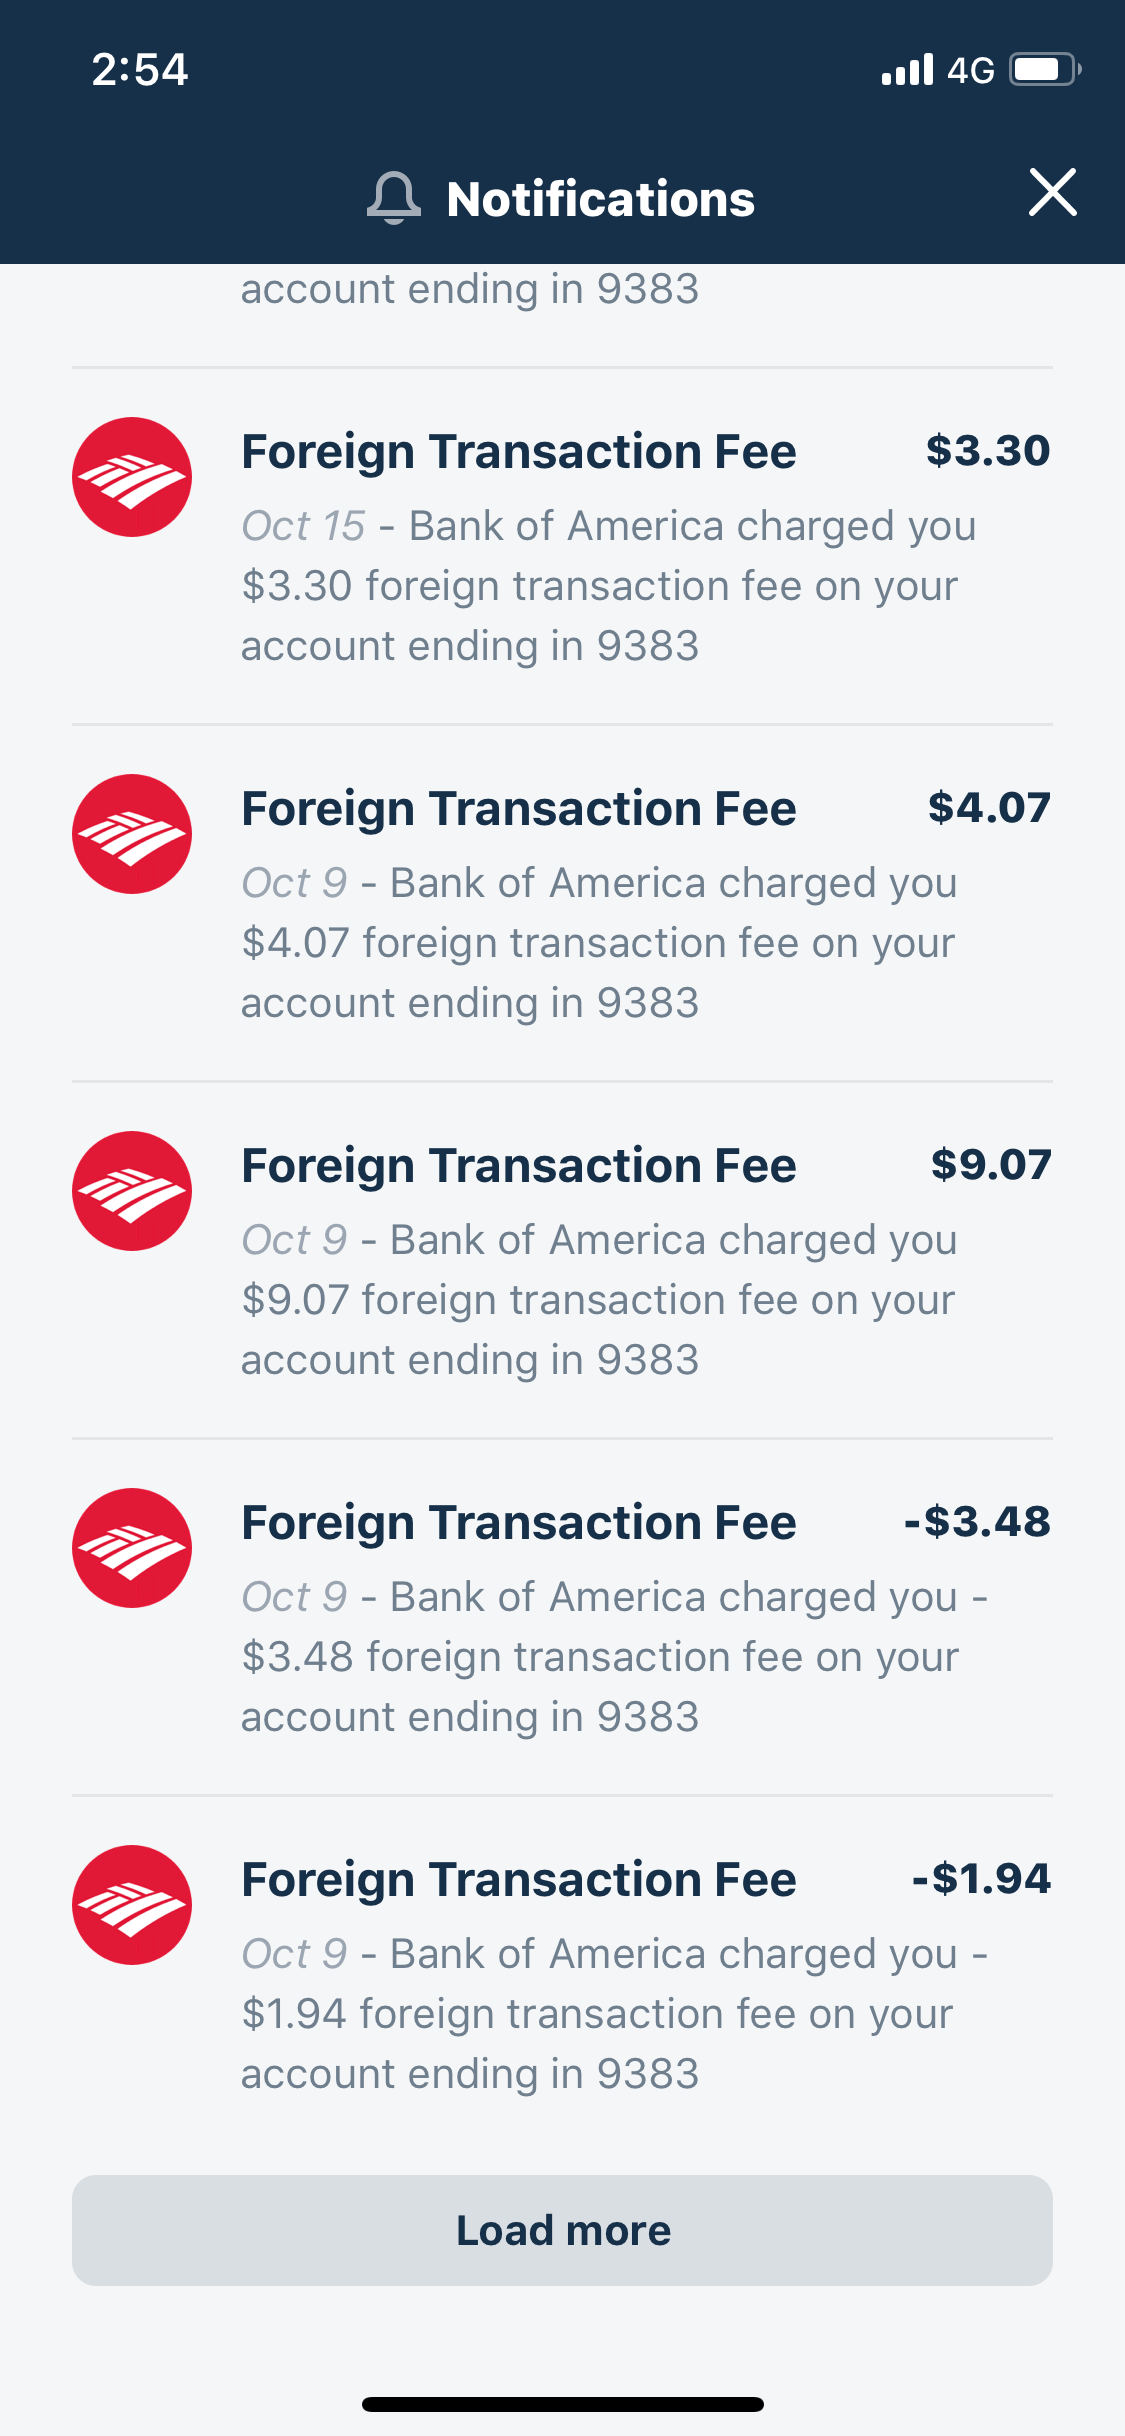Buttons: (62, 2163, 1061, 2295), (984, 124, 1106, 242)
